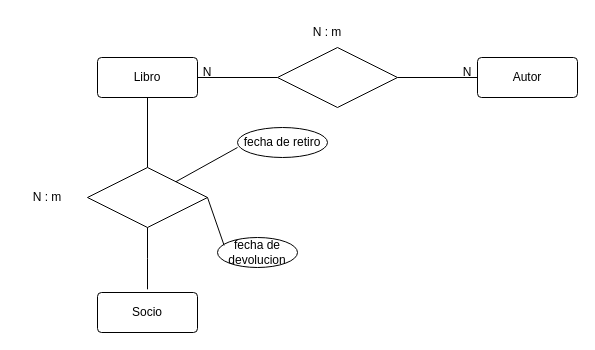
Some shapes in this 595 by 350 pixel diagram are drawn without their labels. The centre of each missing label's shape, as x and y in pixels:
prestamo: the point at 147,197
tiene: the point at 337,77
